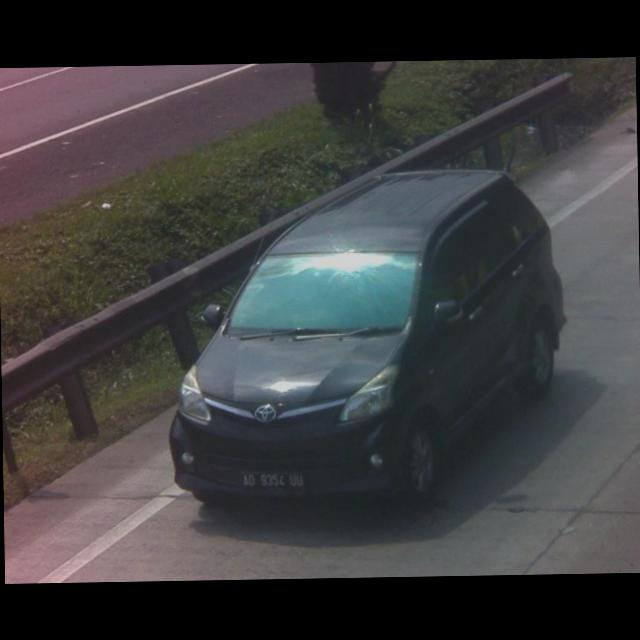plate: (238, 470, 306, 498)
